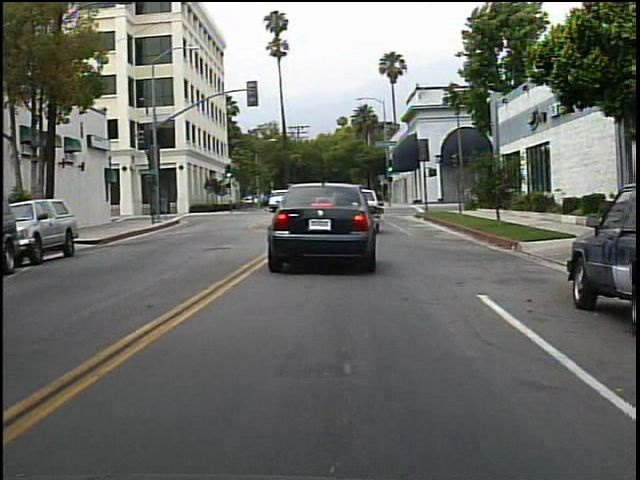person: (290, 184, 315, 221)
